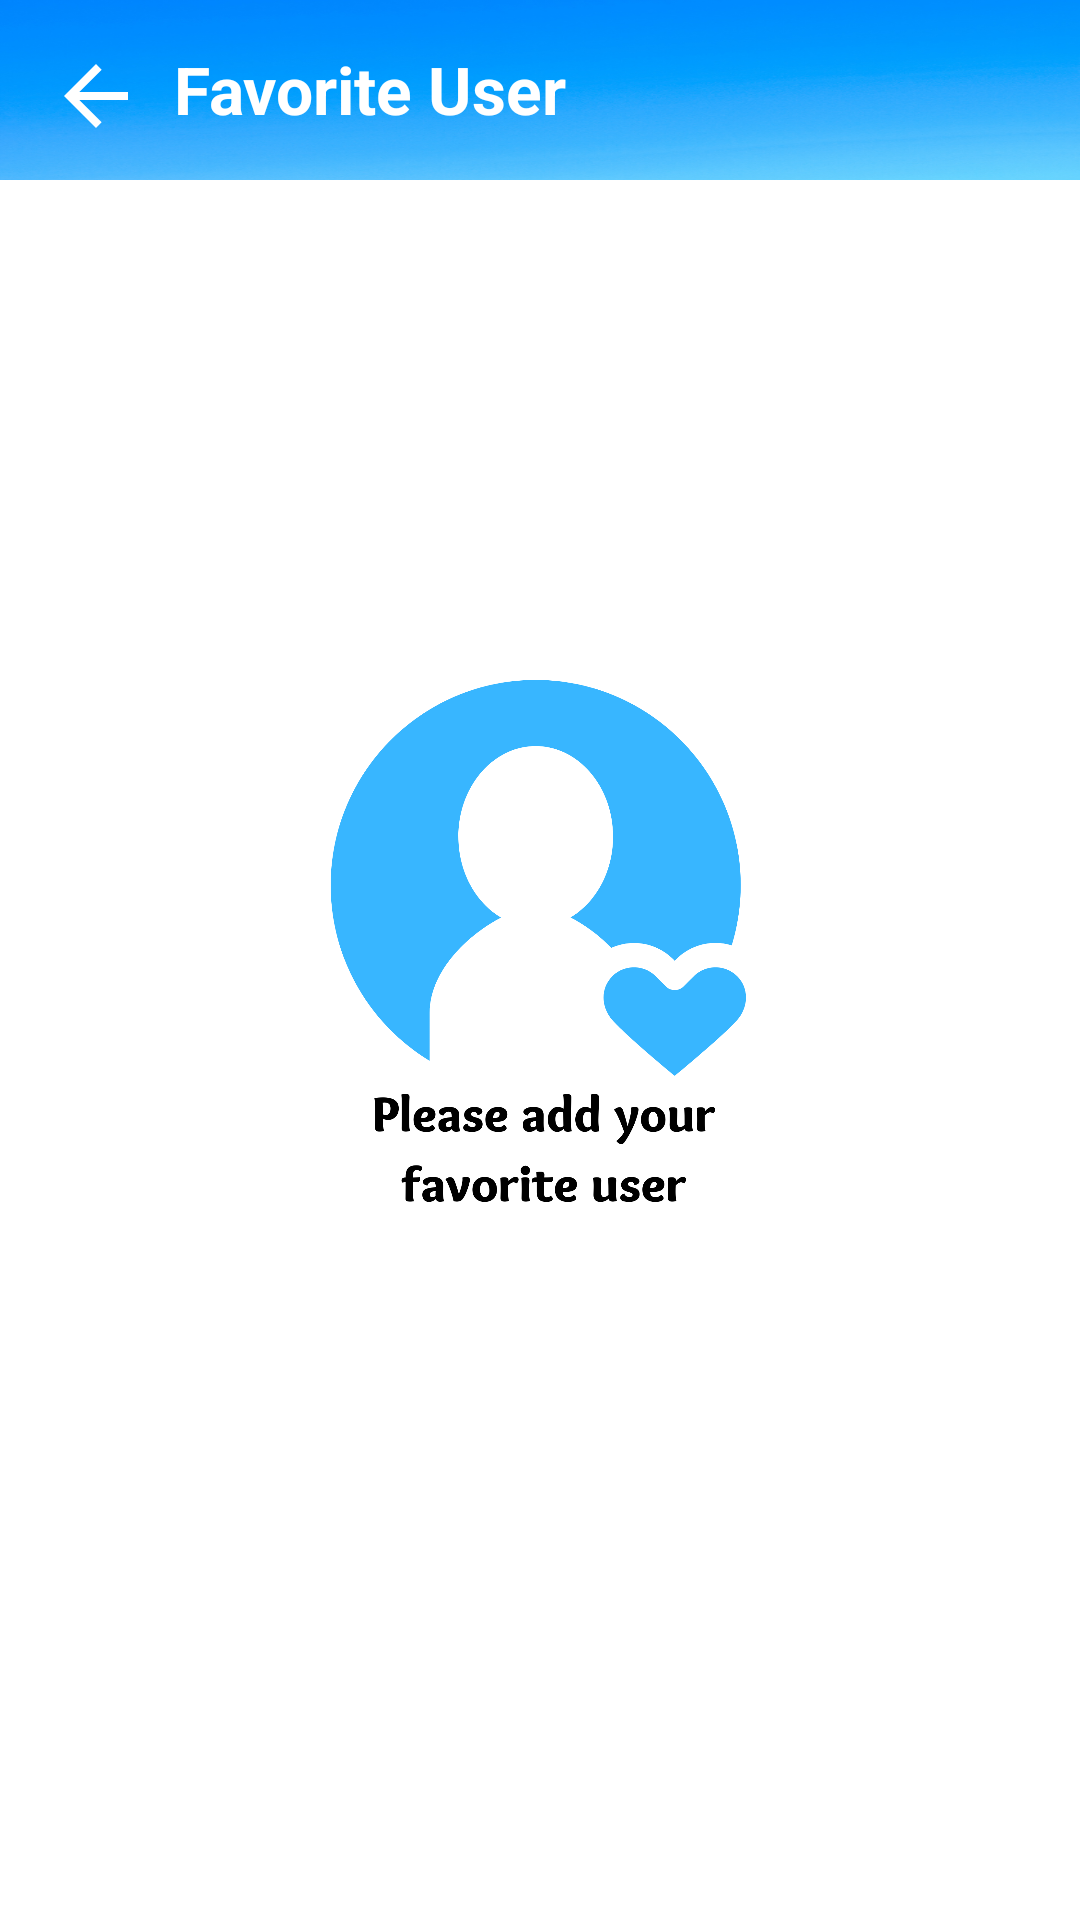

Named icons in this screenshot (1080x1920) and their centers, point (x, y):
arrow back: point (108, 108)
